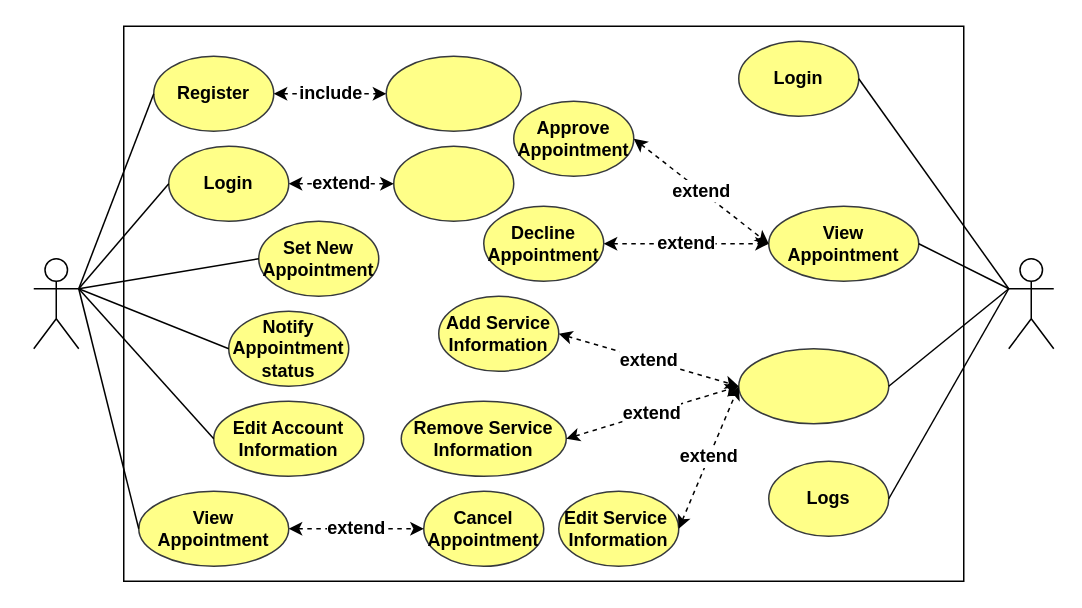
Image size: 1082x608. Some labels were removed from this diagram. Here are the shapes that lost their labels. From the top down, the centre of each, then its label:
At (x=453, y=93): "Fill up Registration form".
At (x=453, y=183): "Invalid credential".
At (x=55, y=303): "Patient".
At (x=1030, y=303): "Admin".
At (x=813, y=385): "View Services".
